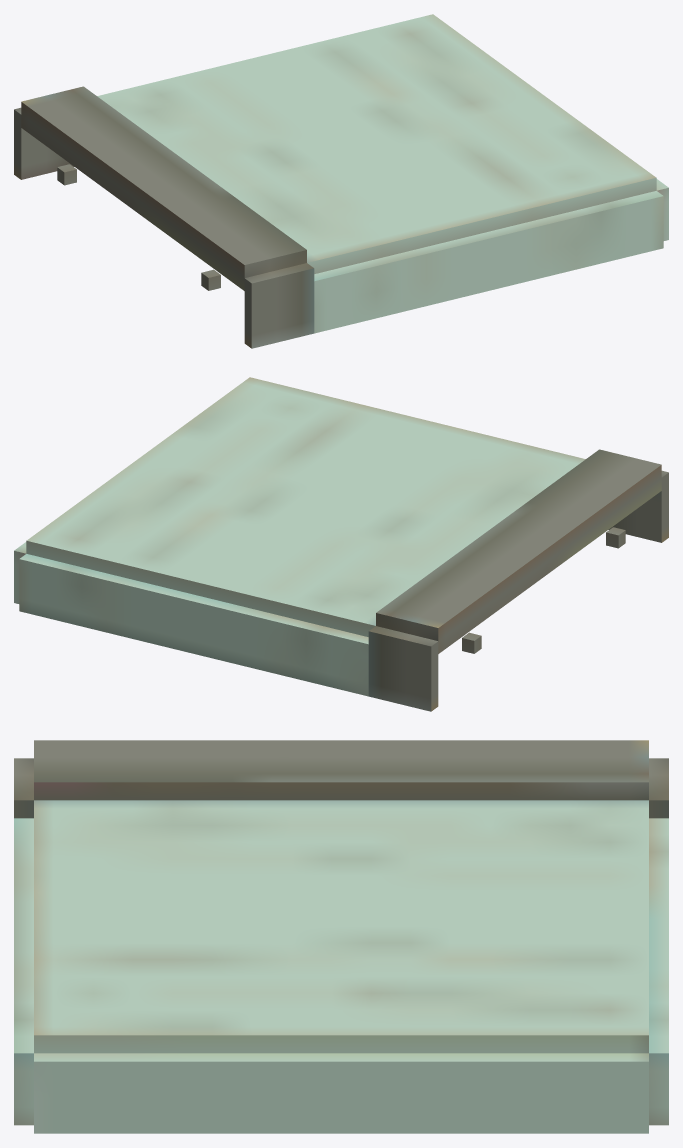
The model's file is BlanketWhite_00.fbx.
3 renders of one model, top to bottom at view 1: azimuth 30°, elevation 25°; view 2: azimuth 150°, elevation 25°; view 3: azimuth 270°, elevation 25°, orthographic. The views are drawn at different scales.
Visible parts, largest first — view 1: BlanketWhite_00; view 2: BlanketWhite_00; view 3: BlanketWhite_00.
Part boxes in pixels (box(x1,y1,x2,y2)): BlanketWhite_00: box(14, 14, 668, 348); BlanketWhite_00: box(14, 377, 668, 711); BlanketWhite_00: box(14, 740, 668, 1133).
Size of the model in its own units: 170 by 165 by 30.
1 material, 1 textured.
